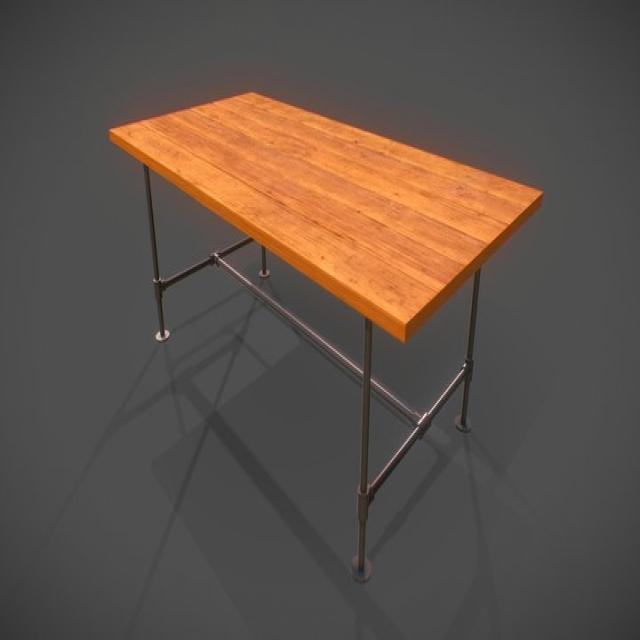table: (107, 90, 542, 582)
